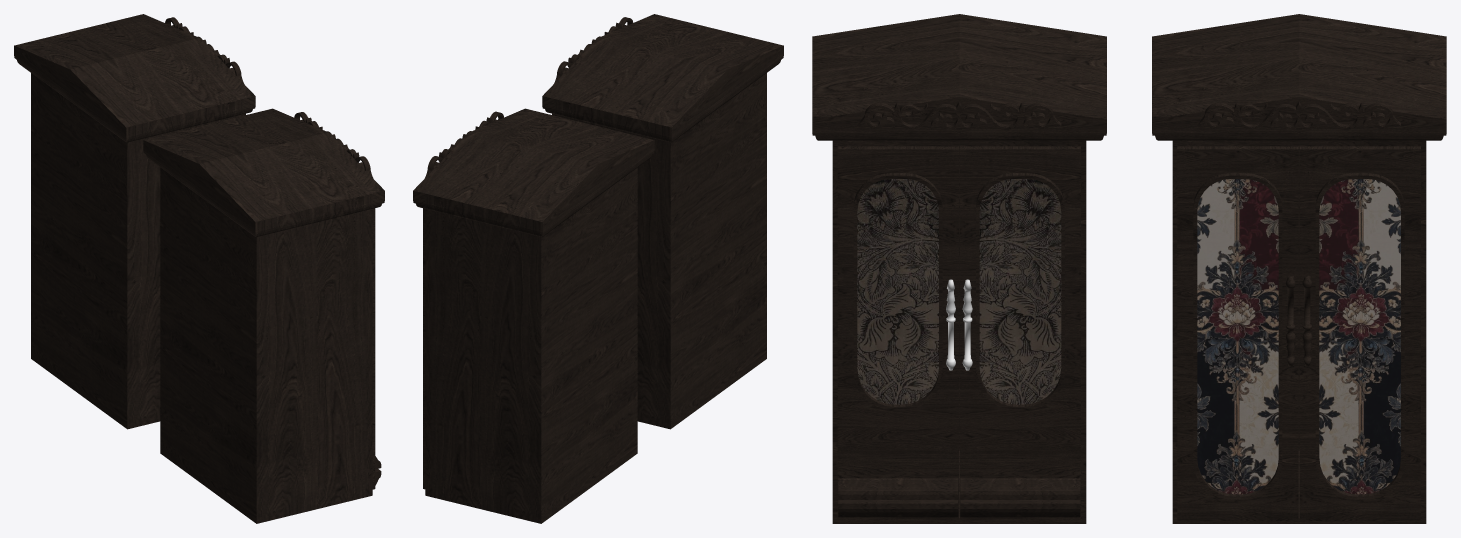
File: RoyalCupBoards.glb
3 renders of one model, left to right at view 1: azimuth 30°, elevation 25°; view 2: azimuth 150°, elevation 25°; view 3: azimuth 270°, elevation 25°, orthographic. The views are drawn at different scales.
Visible parts, largest first — view 1: CupBoardBody2, CupBoardBody, DoorLeft.001; view 2: CupBoardBody, CupBoardBody2, DoorRight; view 3: DoorLeft, DoorRight, DoorLeft.001, DoorRight.001, CupBoardBody, CupBoardBody2.
Part boxes in pixels (x1,y1,x2,y2): CupBoardBody2: (143, 108, 384, 523); CupBoardBody: (14, 14, 255, 429); DoorLeft.001: (372, 208, 381, 489); CupBoardBody: (413, 108, 654, 523); CupBoardBody2: (542, 14, 783, 429); DoorRight: (423, 208, 425, 489); DoorLeft: (1177, 146, 1298, 521); DoorRight: (1299, 146, 1420, 521); DoorLeft.001: (837, 146, 958, 521); DoorRight.001: (959, 146, 1080, 521); CupBoardBody: (1152, 14, 1446, 523); CupBoardBody2: (812, 14, 1106, 523).
Size of the model in its own units: 1.01 by 2.24 by 3.
5 materials, 4 textured.
